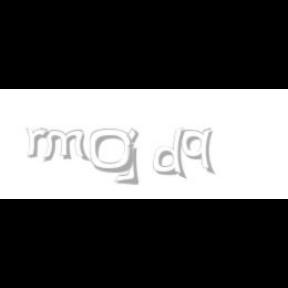O: (90, 128, 134, 174)
d: (154, 128, 190, 180)
j: (124, 128, 153, 186)
m: (39, 128, 91, 162)
q: (180, 128, 216, 176)
r: (25, 128, 52, 158)
